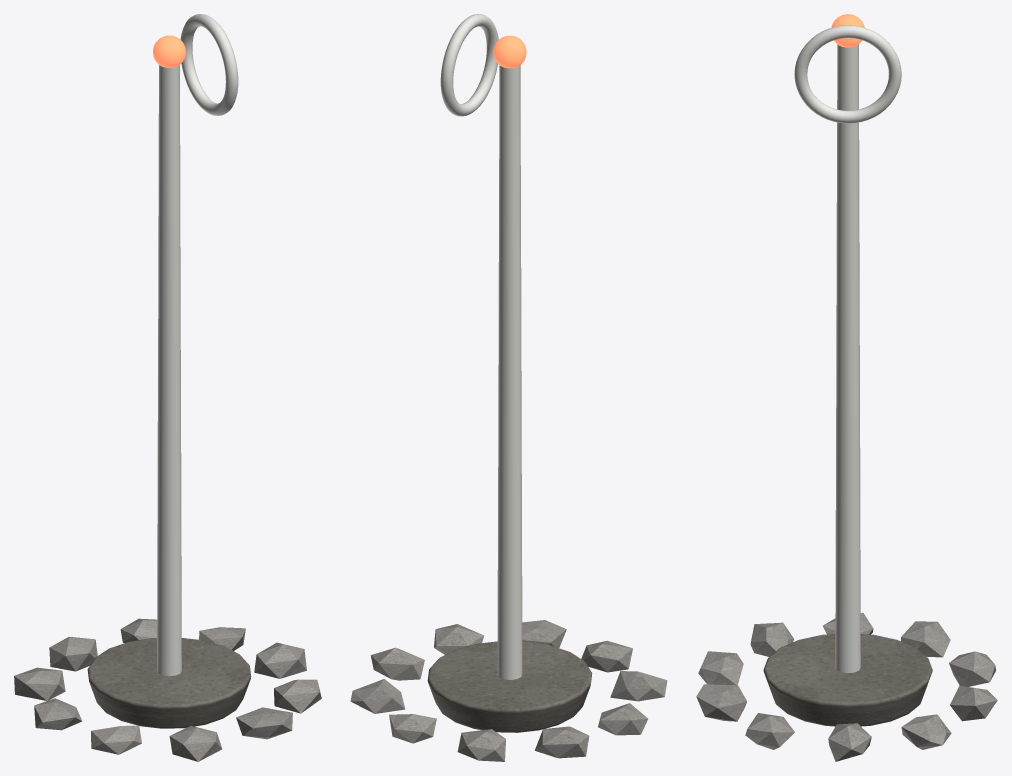
File: windsock.glb
3 renders of one model, left to right at view 1: azimuth 30°, elevation 25°; view 2: azimuth 150°, elevation 25°; view 3: azimuth 270°, elevation 25°, orthographic. The views are drawn at different scales.
Visible parts, largest first — view 1: pole, base, Torus, rim, rim.008, rim.004, rim.007, rim.003, rim.009, rim.006, rim.005, cap (+2 smaller); view 2: pole, base, Torus, rim.004, rim.006, rim, rim.001, rim.003, rim.007, rim.005, rim.002, rim.009 (+2 smaller); view 3: pole, base, Torus, rim.008, rim.004, rim.007, rim.003, rim.001, rim.009, rim, rim.002, rim.006 (+1 smaller).
Boxes of the visible parts, x1,y1,x2,y2 form: pole: (157,65,181,676); base: (87,638,251,728); Torus: (180,14,238,115); rim: (254,642,306,678); rim.008: (236,707,292,739); rim.004: (14,667,65,700); rim.007: (169,726,222,761); rim.003: (49,637,97,671); rim.009: (274,679,321,713); rim.006: (91,725,141,754); rim.005: (34,698,82,730); cap: (153,35,185,67); pole: (497,65,522,679); base: (427,641,592,732); Torus: (440,14,498,116); rim.004: (535,726,589,758); rim.006: (610,671,667,701); rim: (370,647,424,680); rim.001: (350,679,405,713); rim.003: (457,729,505,761); rim.007: (581,640,632,672); rim.005: (598,703,647,735); rim.002: (389,714,436,743); rim.009: (434,624,484,654); pole: (835,44,860,673); base: (763,634,932,726); Torus: (794,25,901,123); rim.008: (696,684,747,721); rim.004: (901,621,950,657); rim.007: (698,651,743,685); rim.003: (949,651,995,686); rim.001: (901,714,951,749); rim.009: (745,713,794,749); rim: (828,723,871,761); rim.002: (950,685,997,721); rim.006: (750,622,793,656).
Bounding box in the file's own units: 1.49 × 3.59 × 1.41.
Materials: 4 (2 with a texture image).
